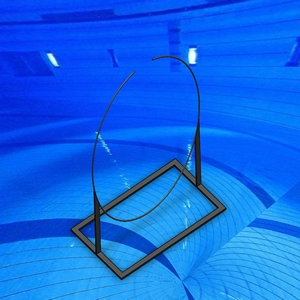circle: (70, 54, 227, 282)
